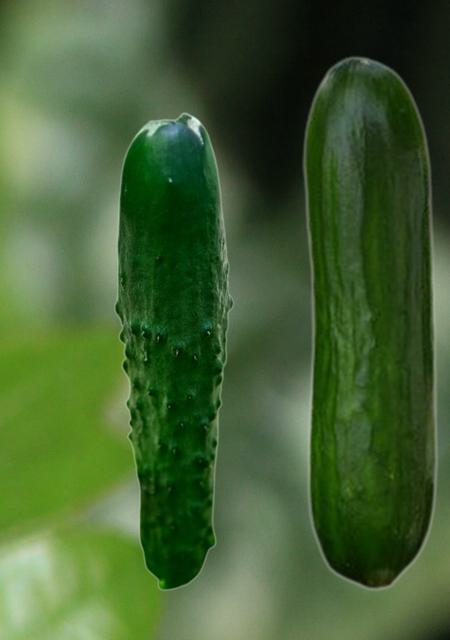cucumber: (302, 55, 438, 590), (113, 112, 233, 590)
